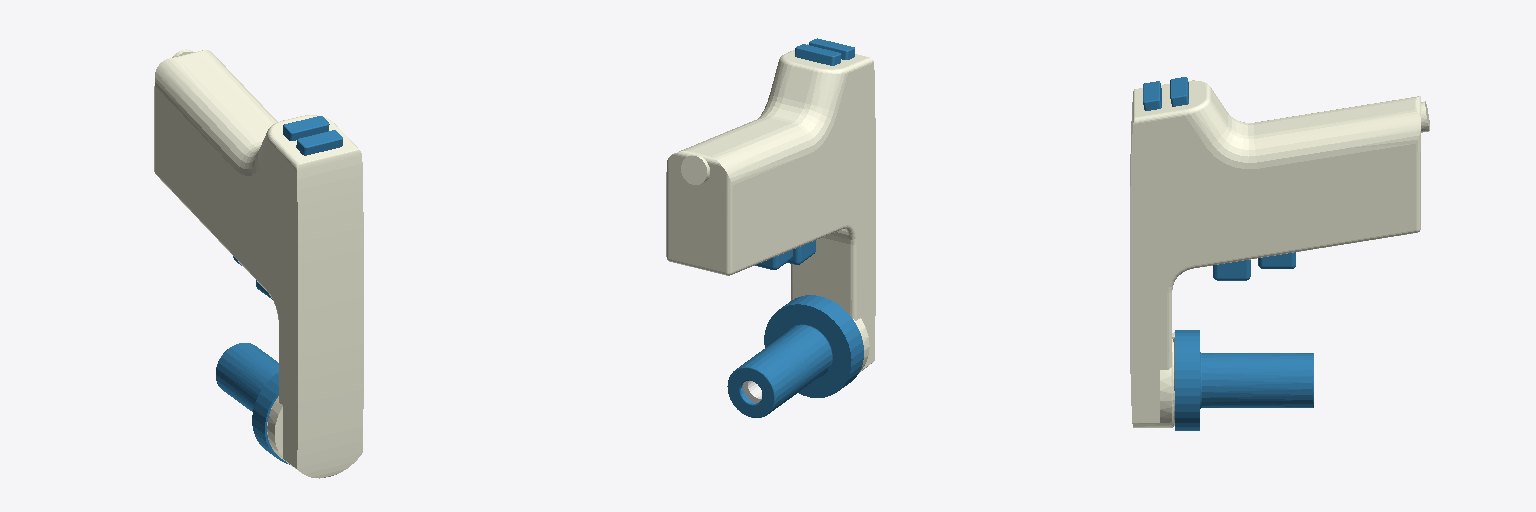
The model's file is pipette_default.obj.
3 renders of one model, left to right at view 1: azimuth 30°, elevation 25°; view 2: azimuth 150°, elevation 25°; view 3: azimuth 270°, elevation 25°, orthographic.
Visible parts, largest first — view 1: Body1:4, Body1:2; view 2: Body1:4, Body1:2; view 3: Body1:4, Body1:2, Body1:3.
Part boxes in pixels (left/top/right/bottom): Body1:4: left=154, top=49, right=363, bottom=478; Body1:2: left=216, top=343, right=289, bottom=464; Body1:4: left=666, top=38, right=875, bottom=372; Body1:2: left=727, top=295, right=863, bottom=417; Body1:4: left=1130, top=77, right=1429, bottom=427; Body1:2: left=1175, top=330, right=1313, bottom=430; Body1:3: left=1213, top=260, right=1250, bottom=280.
Bounding box in the file's own units: 3.99 × 14.86 × 11.91.